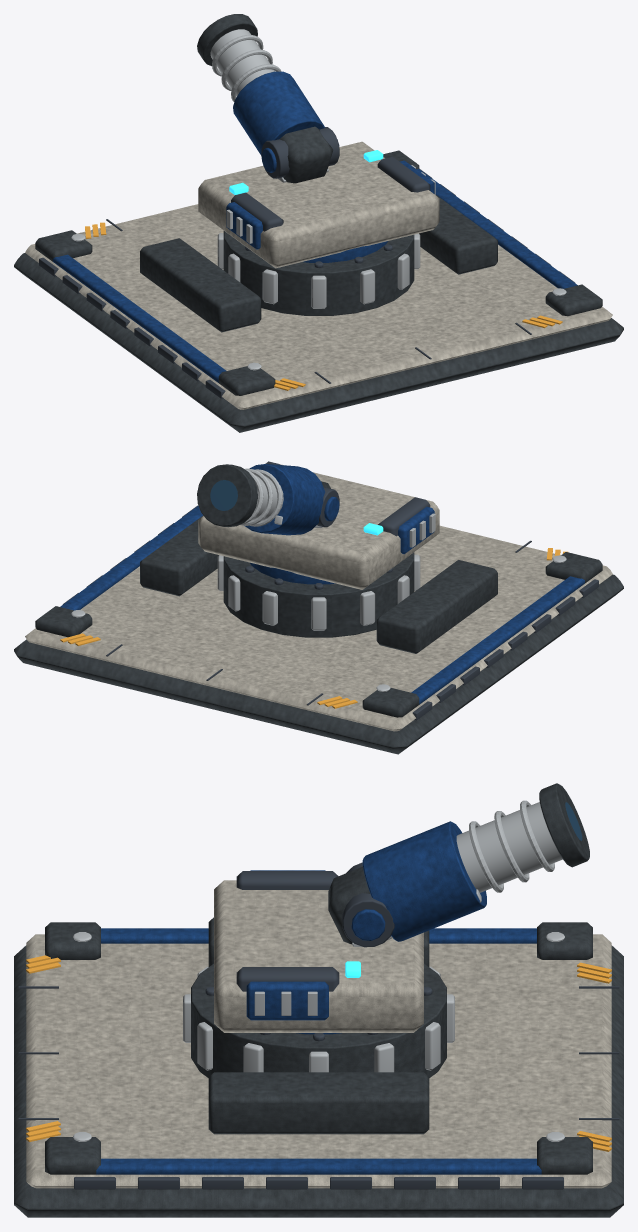
File: solis_mortier_lourd.gltf
The picture shows the model from 3 angles, top to bottom: view 1: azimuth 30°, elevation 25°; view 2: azimuth 150°, elevation 25°; view 3: azimuth 270°, elevation 25°; orthographic projection. The views are drawn at different scales.
Parts seen in each view (by area): view 1: Building.015_Geometry, TurretYaw.004_Geometry, GunRecoil.001_Geometry, GunPitch.004_Geometry; view 2: Building.015_Geometry, TurretYaw.004_Geometry, GunRecoil.001_Geometry, GunPitch.004_Geometry; view 3: Building.015_Geometry, TurretYaw.004_Geometry, GunRecoil.001_Geometry, GunPitch.004_Geometry.
Part boxes in pixels (box(x1,y1,x2,y2)): Building.015_Geometry: box(14, 150, 623, 432); TurretYaw.004_Geometry: box(198, 141, 439, 268); GunRecoil.001_Geometry: box(197, 14, 328, 182); GunPitch.004_Geometry: box(261, 126, 339, 183); Building.015_Geometry: box(14, 505, 623, 754); TurretYaw.004_Geometry: box(198, 461, 439, 589); GunRecoil.001_Geometry: box(197, 464, 325, 535); GunPitch.004_Geometry: box(317, 481, 339, 527); Building.015_Geometry: box(14, 917, 623, 1217); TurretYaw.004_Geometry: box(214, 870, 423, 1032); GunRecoil.001_Geometry: box(352, 783, 589, 946); GunPitch.004_Geometry: box(328, 862, 394, 947).
Bounding box in the file's own units: 3.92 × 2.18 × 3.92.
8 materials, 3 textured.
